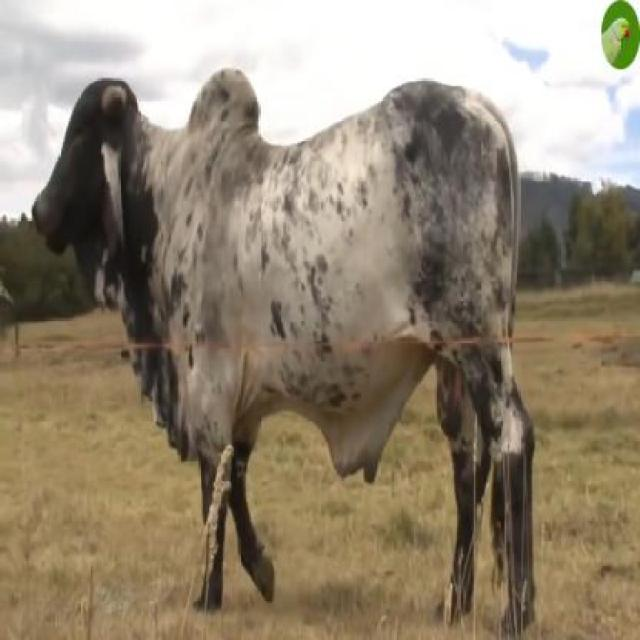Cow: (32, 66, 537, 639)
